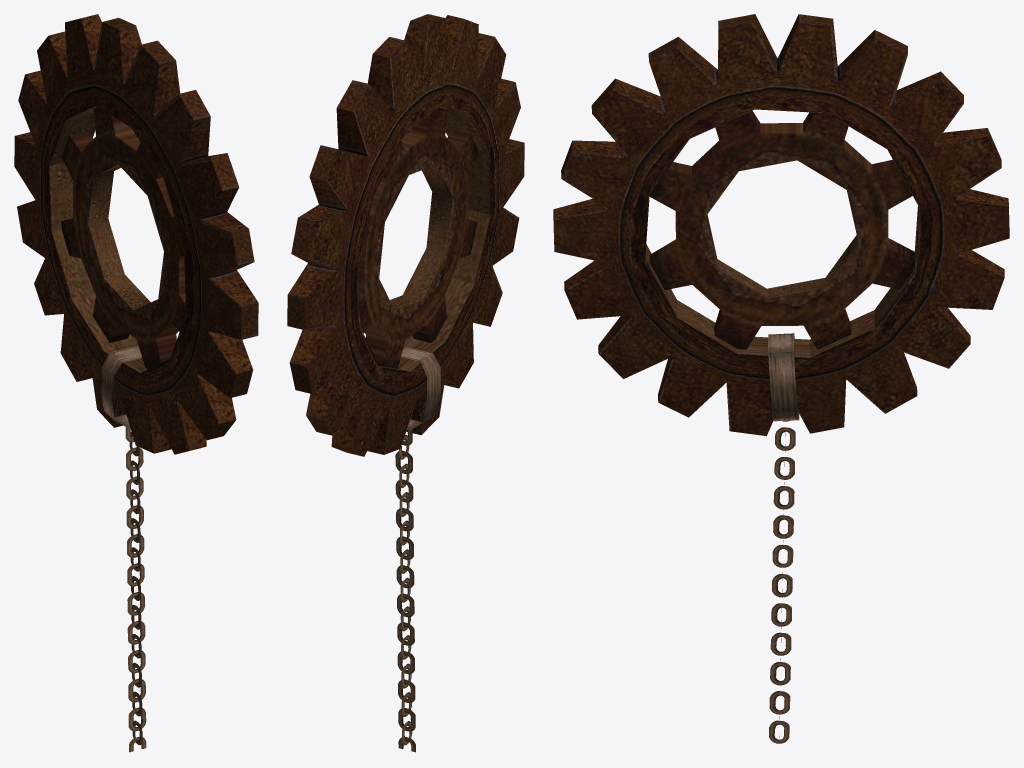
Rendered from gear_club2_1m.fbx.
The picture shows the model from 3 angles, left to right: view 1: azimuth 30°, elevation 25°; view 2: azimuth 150°, elevation 25°; view 3: azimuth 270°, elevation 25°; orthographic projection. The views are drawn at different scales.
Visible parts, largest first — view 1: mesh_0, mesh_1; view 2: mesh_0, mesh_1; view 3: mesh_0, mesh_1.
Part boxes in pixels (box(x1,y1,x2,y2)): mesh_0: box(14, 14, 258, 454); mesh_1: box(100, 345, 146, 752); mesh_0: box(287, 14, 524, 456); mesh_1: box(395, 346, 440, 752); mesh_0: box(553, 14, 1009, 435); mesh_1: box(768, 333, 799, 743).
Bounding box in the file's own units: 20.78 × 238 × 135.
Materials: 2 (2 with a texture image).
